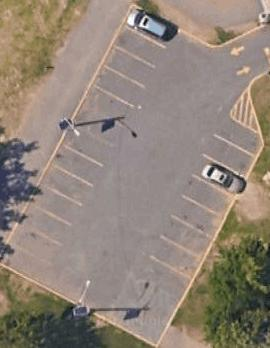parkingspot: (0, 2, 183, 289), (145, 109, 266, 283)
